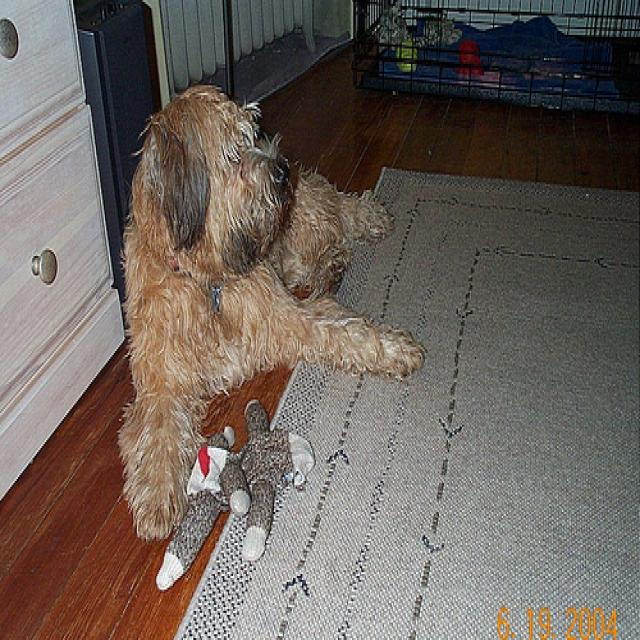dog: (151, 85, 291, 248)
